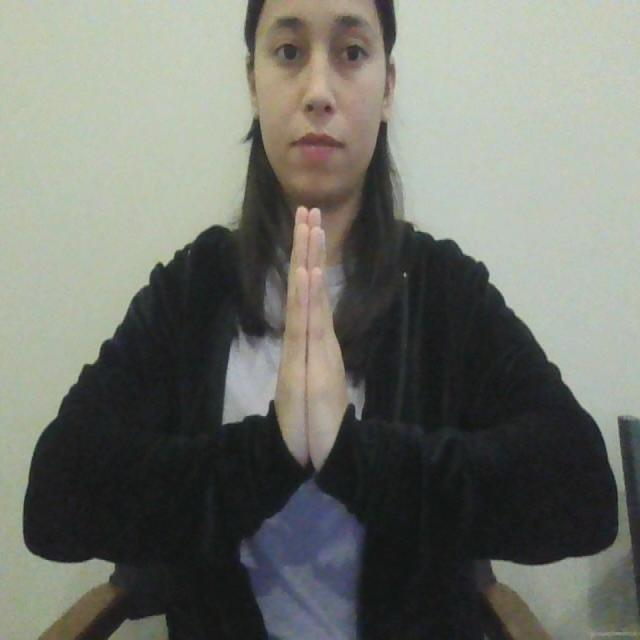Ozur-Dilemek: (268, 200, 353, 482)
